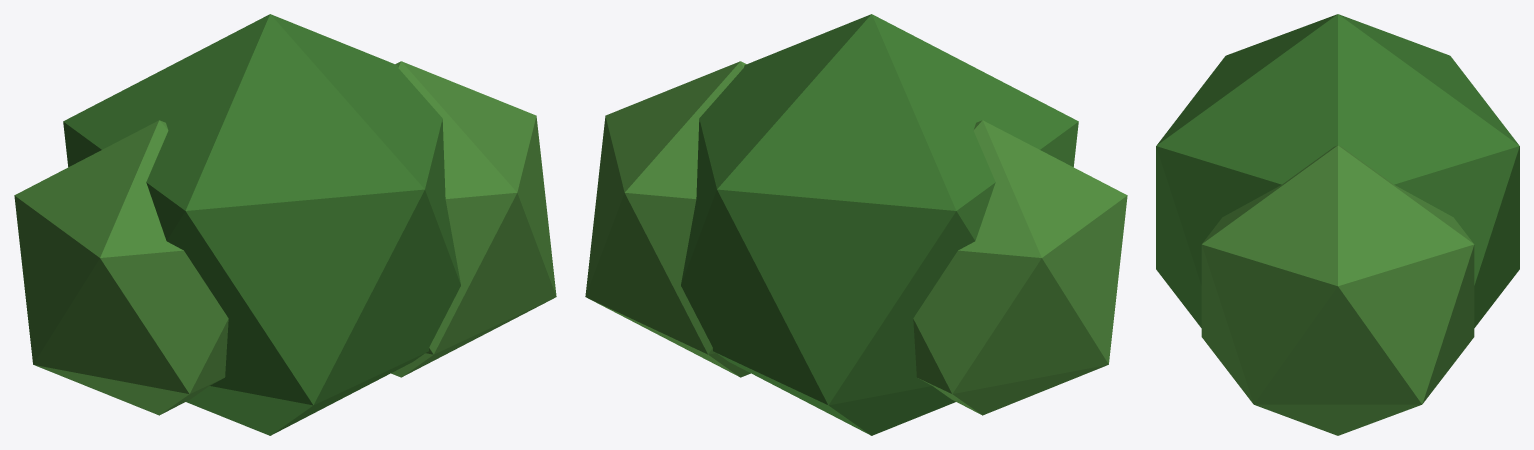
Rendered from bush.glb.
3 renders of one model, left to right at view 1: azimuth 30°, elevation 25°; view 2: azimuth 150°, elevation 25°; view 3: azimuth 270°, elevation 25°, orthographic. The views are drawn at different scales.
Visible parts, largest first — view 1: Icosphere, Icosphere.002, Icosphere.001; view 2: Icosphere, Icosphere.002, Icosphere.001; view 3: Icosphere.001, Icosphere.
Boxes of the visible parts, <box> form: Icosphere: <box>63,14,460,435</box>; Icosphere.002: <box>14,120,228,415</box>; Icosphere.001: <box>391,61,556,377</box>; Icosphere: <box>681,14,1078,435</box>; Icosphere.002: <box>913,120,1127,415</box>; Icosphere.001: <box>585,61,750,377</box>; Icosphere.001: <box>1201,145,1474,435</box>; Icosphere: <box>1156,14,1519,327</box>.
Bounding box in the file's own units: 0.9988 × 0.8 × 0.6805.
